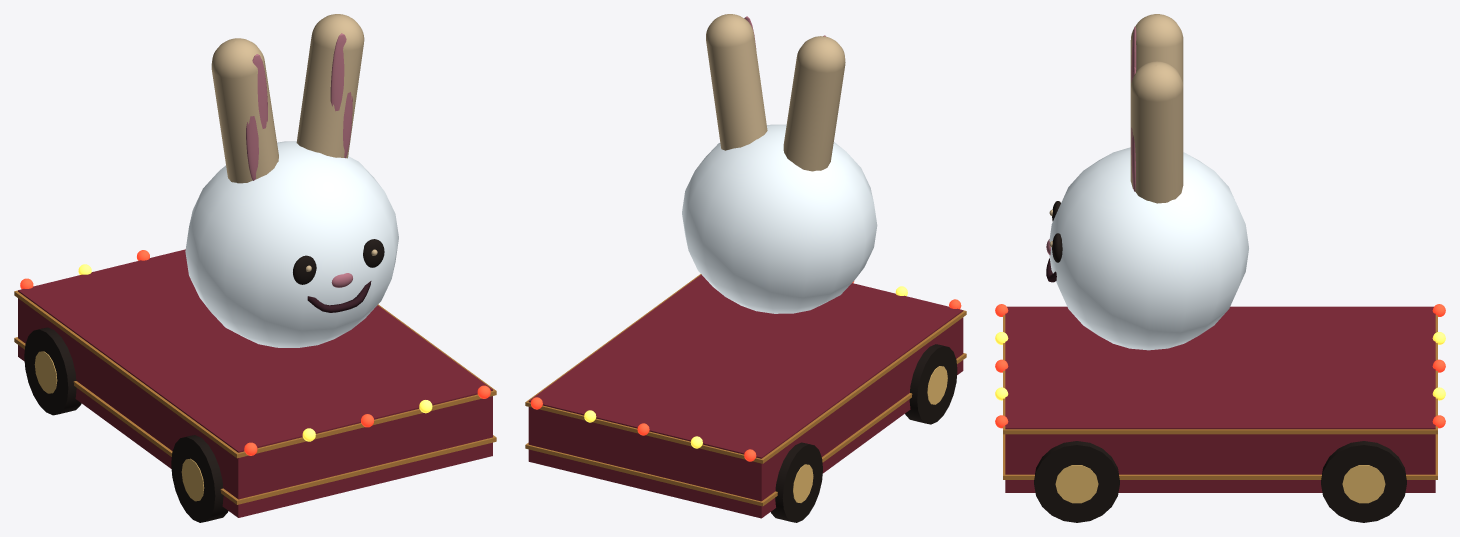
The model's file is mia-parade_float.glb.
The picture shows the model from 3 angles, left to right: view 1: azimuth 30°, elevation 25°; view 2: azimuth 150°, elevation 25°; view 3: azimuth 270°, elevation 25°; orthographic projection. The views are drawn at different scales.
Visible parts, largest first — view 1: Body_velvet, Body_porcelain, Body_ivory, Body_black, Body_brass, Body_cake-rose, Body_trim, Body_red-bulb, Body_dark; view 2: Body_velvet, Body_porcelain, Body_ivory, Body_black, Body_brass, Body_trim; view 3: Body_velvet, Body_porcelain, Body_ivory, Body_black, Body_brass, Body_trim, Body_red-bulb, Body_amber, Body_cake-rose.
Boxes of the visible parts, x1,y1,x2,y2 form: Body_velvet: [18, 249, 492, 517]; Body_porcelain: [185, 141, 398, 347]; Body_ivory: [211, 14, 377, 271]; Body_black: [24, 239, 384, 522]; Body_brass: [14, 290, 496, 504]; Body_cake-rose: [246, 33, 352, 287]; Body_trim: [34, 351, 204, 501]; Body_red-bulb: [20, 250, 490, 455]; Body_dark: [307, 281, 371, 312]; Body_velvet: [528, 274, 963, 518]; Body_porcelain: [682, 124, 877, 313]; Body_ivory: [706, 14, 845, 171]; Body_black: [771, 344, 957, 522]; Body_brass: [525, 274, 966, 506]; Body_trim: [793, 366, 947, 502]; Body_velvet: [1005, 306, 1435, 492]; Body_porcelain: [1049, 147, 1248, 350]; Body_ivory: [1049, 14, 1183, 247]; Body_black: [1034, 201, 1406, 522]; Body_brass: [1003, 315, 1437, 479]; Body_trim: [1055, 465, 1385, 503]; Body_red-bulb: [995, 304, 1445, 428]; Body_amber: [995, 332, 1445, 400]; Body_cake-rose: [1046, 26, 1136, 255].
Size of the model in its own units: 2.57 by 3.86 by 3.77.
